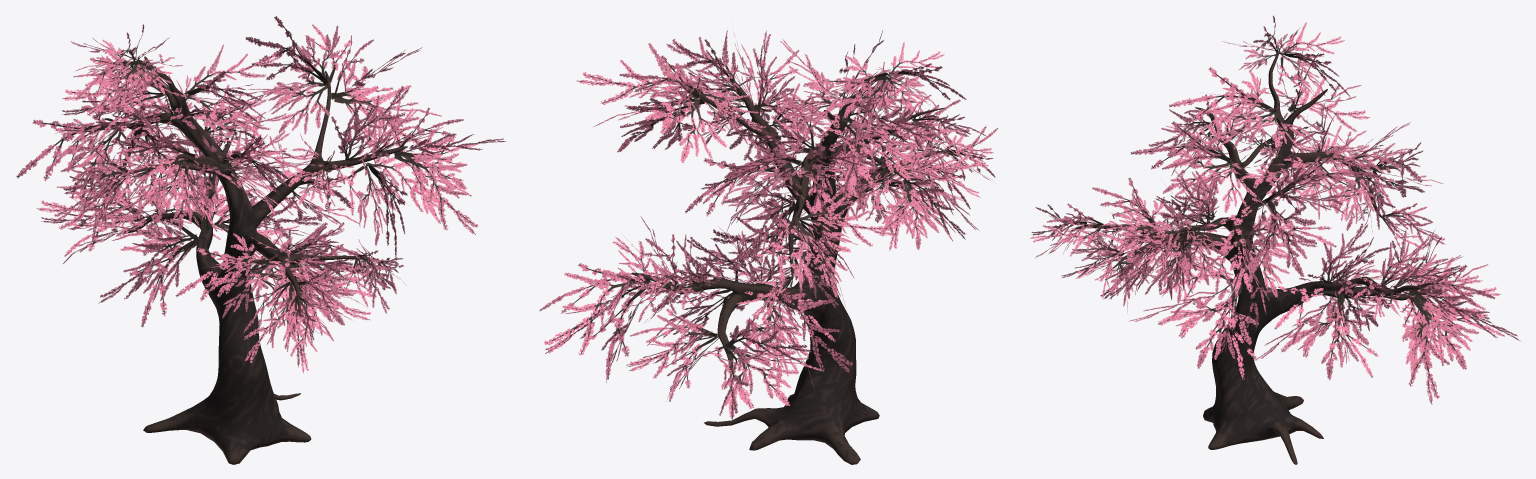
Rendered from sakura.glb.
The picture shows the model from 3 angles, left to right: view 1: azimuth 30°, elevation 25°; view 2: azimuth 150°, elevation 25°; view 3: azimuth 270°, elevation 25°; orthographic projection. The views are drawn at different scales.
Parts seen in each view (by area): view 1: treee_0, bush.001_2, bush.008_9, bush.011_17, bush.015_21, bush.021_27, bush.012_18, bush.009_15, bush.002_3, bush.006_7, bush.004_5, bush.018_22 (+28 smaller); view 2: treee_0, bush.004_5, bush.015_21, bush.017_24, bush_1, bush.002_3, bush.011_17, bush.008_9, bush.014_20, bush.007_8, bush.016_23, bush.019_25 (+28 smaller); view 3: treee_0, bush_1, bush.024_12, bush.019_25, bush.002_3, bush.018_22, bush.021_27, bush.025_28, bush.012_18, bush.001_2, bush.011_17, bush.014_20 (+28 smaller).
Boxes of the visible parts, x1,y1,x2,y2 form: treee_0: (104, 56, 407, 464); bush.001_2: (394, 107, 505, 234); bush.008_9: (90, 189, 198, 327); bush.011_17: (233, 16, 350, 134); bush.015_21: (16, 92, 149, 198); bush.021_27: (161, 44, 282, 137); bush.012_18: (331, 153, 445, 257); bush.009_15: (175, 233, 303, 318); bush.002_3: (331, 35, 442, 164); bush.006_7: (126, 158, 219, 231); bush.004_5: (62, 53, 168, 151); bush.018_22: (189, 134, 318, 215); treee_0: (631, 72, 958, 464); bush.004_5: (816, 80, 943, 203); bush.015_21: (755, 189, 896, 306); bush.017_24: (694, 306, 823, 419); bush_1: (539, 263, 651, 382); bush.002_3: (577, 43, 705, 152); bush.011_17: (629, 56, 765, 162); bush.008_9: (744, 281, 852, 387); bush.014_20: (811, 55, 924, 138); bush.007_8: (879, 176, 965, 250); bush.016_23: (626, 308, 718, 401); bush.019_25: (626, 234, 748, 345); treee_0: (1070, 52, 1421, 464); bush_1: (1402, 264, 1520, 404); bush.024_12: (1129, 256, 1271, 379); bush.019_25: (1255, 285, 1378, 379); bush.002_3: (1206, 174, 1336, 296); bush.018_22: (1130, 113, 1256, 212); bush.021_27: (1169, 67, 1305, 149); bush.025_28: (1203, 209, 1316, 313); bush.012_18: (1118, 200, 1224, 296); bush.001_2: (1107, 211, 1199, 299); bush.011_17: (1250, 146, 1379, 214); bush.014_20: (1274, 22, 1350, 96).
Bounding box in the file's own units: 2.38 × 2.43 × 3.01.
4 materials, 4 textured.
